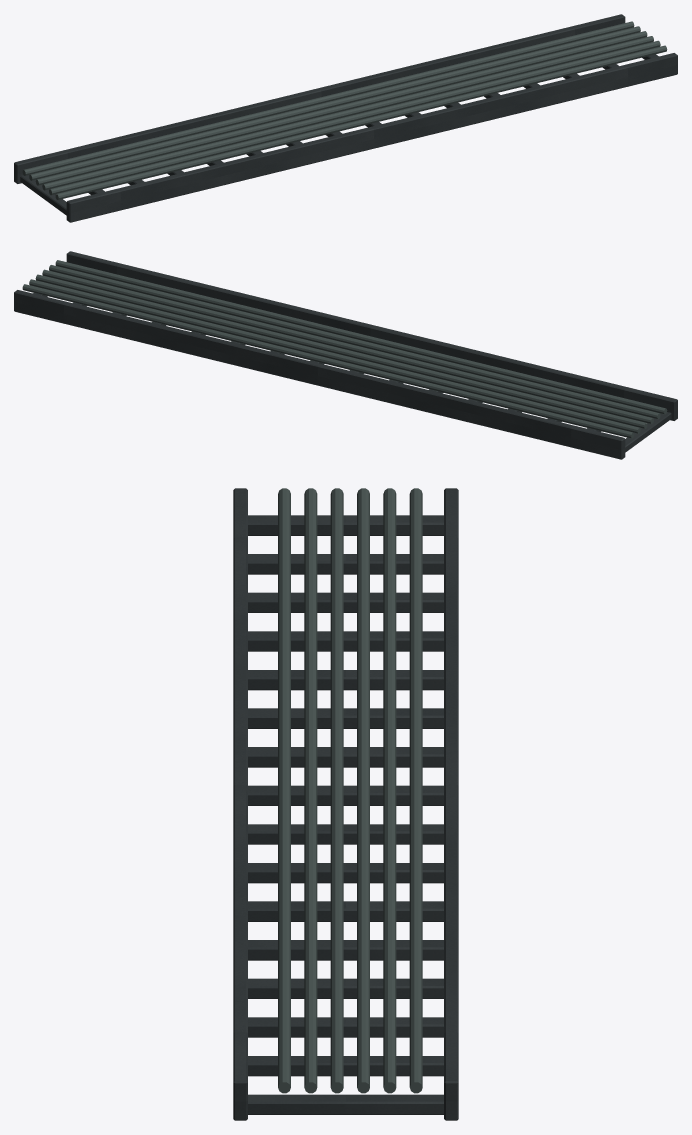
File: CableTray.glb
3 views of the same model, one above another, from view 1: azimuth 30°, elevation 25°; view 2: azimuth 150°, elevation 25°; view 3: azimuth 270°, elevation 25° (orthographic). The views are drawn at different scales.
Parts seen in each view (by area): view 1: CableTray__Rubber__mesh, CableTray__Powdercoat__mesh; view 2: CableTray__Rubber__mesh, CableTray__Powdercoat__mesh; view 3: CableTray__Powdercoat__mesh, CableTray__Rubber__mesh.
Part boxes in pixels (box(x1,y1,x2,y2)): CableTray__Rubber__mesh: box(22, 21, 667, 199); CableTray__Powdercoat__mesh: box(14, 14, 677, 222); CableTray__Rubber__mesh: box(22, 260, 667, 438); CableTray__Powdercoat__mesh: box(14, 251, 677, 459); CableTray__Powdercoat__mesh: box(233, 488, 458, 1120); CableTray__Rubber__mesh: box(278, 488, 422, 1093).
Bounding box in the file's own units: 2.4 × 0.075 × 0.385.
2 materials, 1 textured.
